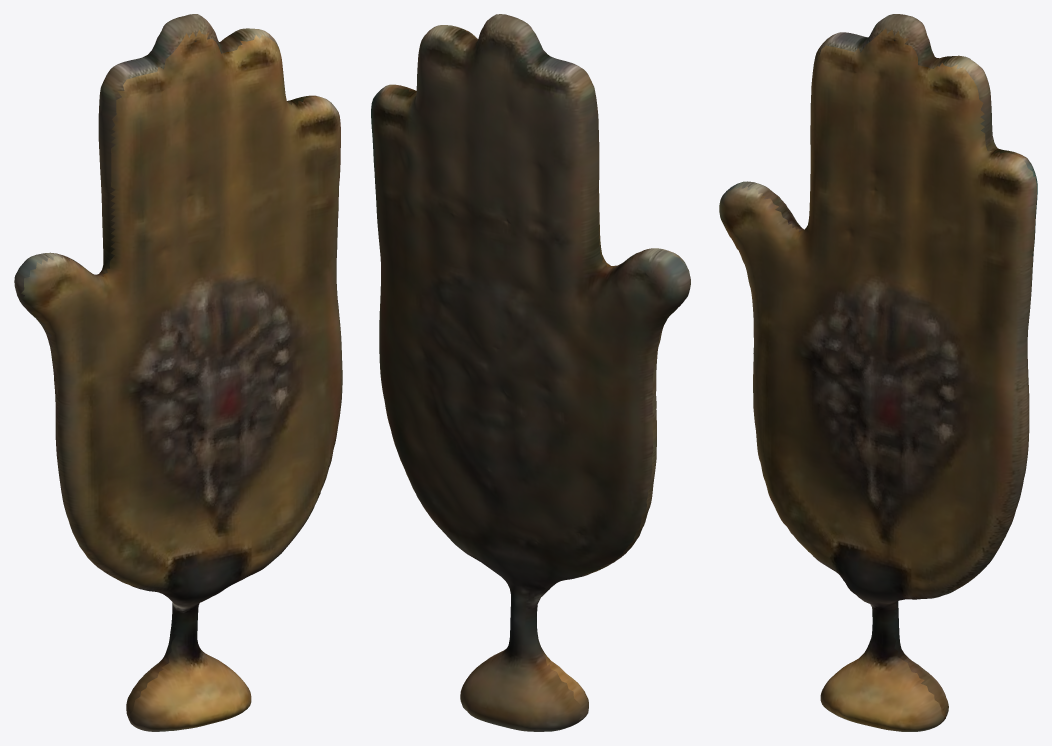
The model's file is kfl-2146.glb.
3 views of the same model, side by side, from view 1: azimuth 30°, elevation 25°; view 2: azimuth 150°, elevation 25°; view 3: azimuth 330°, elevation 25° (orthographic).
Visible parts, largest first — view 1: geometry_0; view 2: geometry_0; view 3: geometry_0.
Boxes of the visible parts, x1,y1,x2,y2 form: geometry_0: (14,14,342,731); geometry_0: (371,14,690,731); geometry_0: (719,14,1037,731).
Bounding box in the file's own units: 0.4738 × 0.9962 × 0.1251.
Materials: 1 (1 with a texture image).
